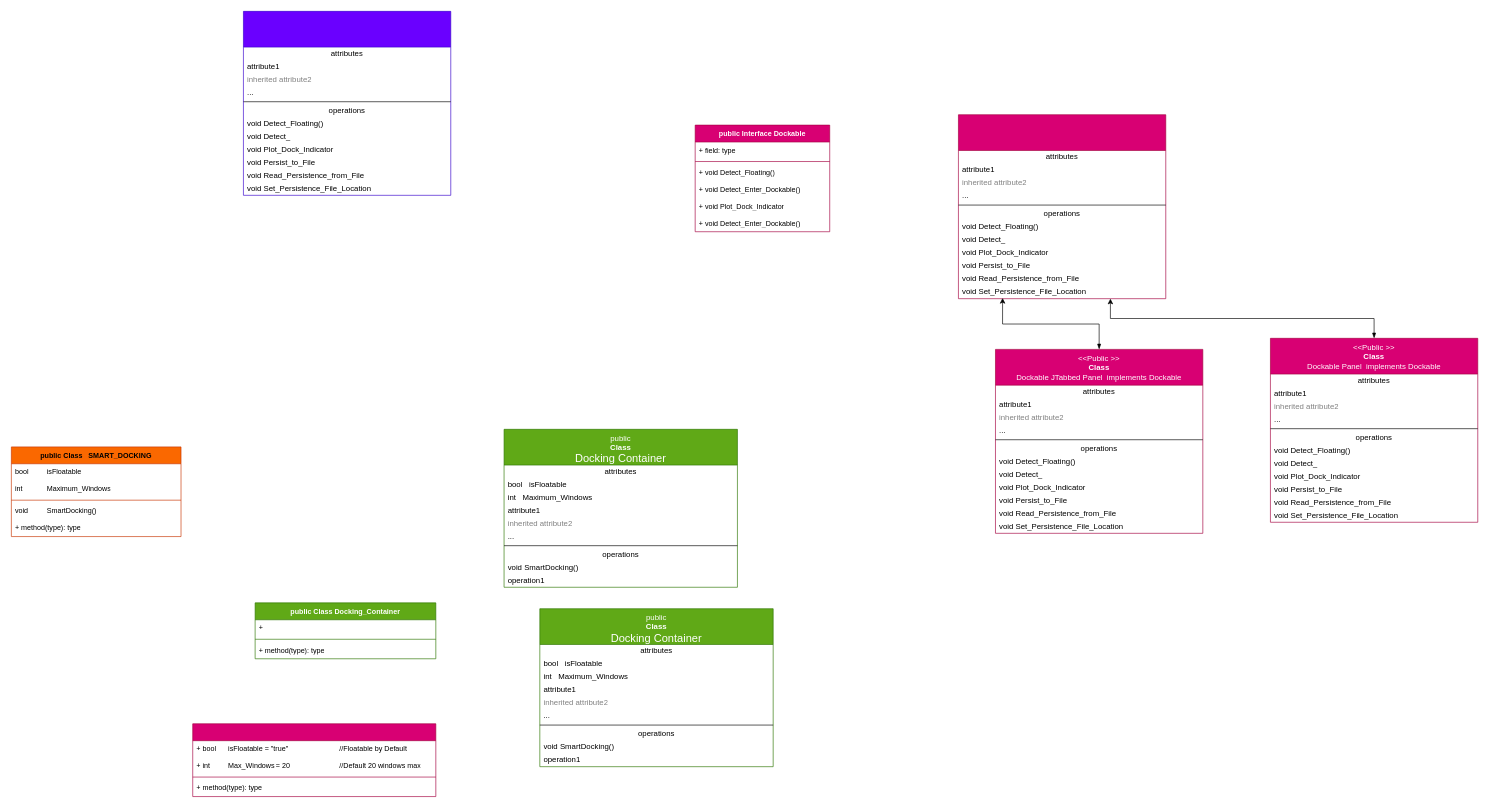
Some shapes in this 1489 by 810 pixel diagram are drawn without their labels. Each missing label, with the box of its shape:
<<Public >> Interface Dockable: (958, 114, 1166, 299)
<<Public >> INTERFACE {DOCKER}: (243, 11, 451, 195)
public Abstract Class Dockable: (192, 723, 436, 797)
